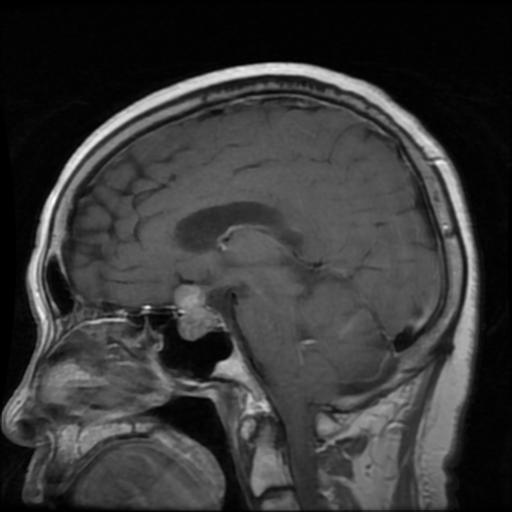Pituirity_tumour: (173, 283, 216, 338)
